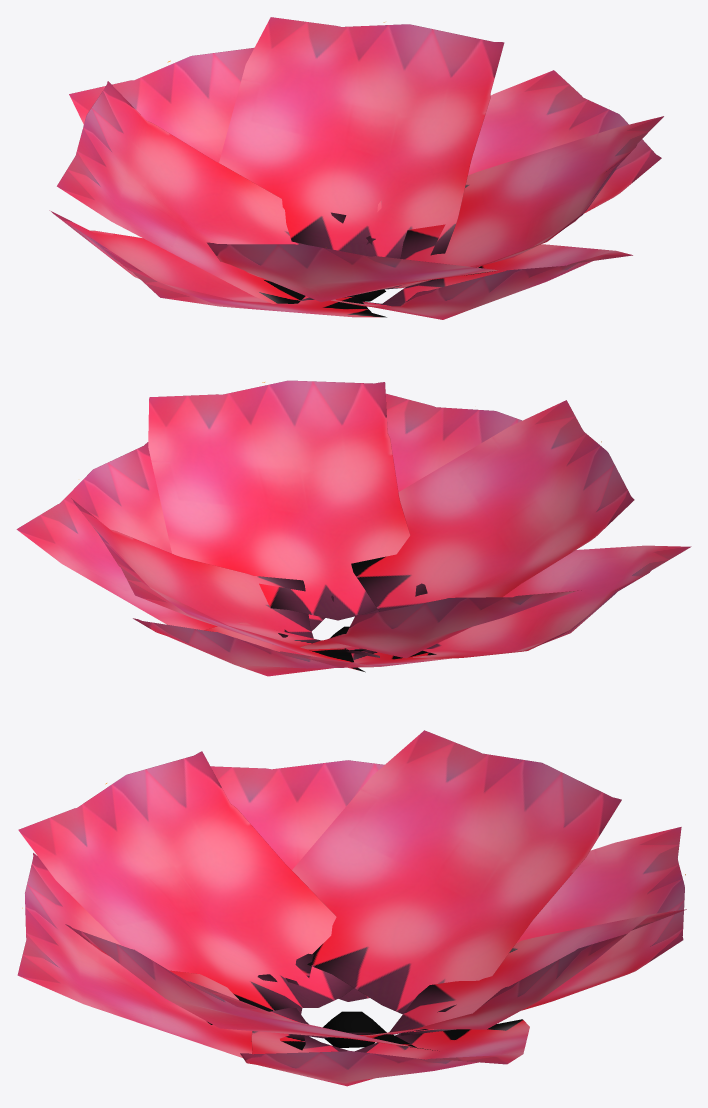
The model's file is OrangeFlower_LOD.fbx.
The picture shows the model from 3 angles, top to bottom: view 1: azimuth 30°, elevation 25°; view 2: azimuth 150°, elevation 25°; view 3: azimuth 270°, elevation 25°; orthographic projection. The views are drawn at different scales.
Parts seen in each view (by area): view 1: OrangeFlower_LOD0; view 2: OrangeFlower_LOD0; view 3: OrangeFlower_LOD0, OrangeFlower_Static_LOD0.
Boxes of the visible parts, x1,y1,x2,y2 form: OrangeFlower_LOD0: [49, 17, 663, 319]; OrangeFlower_LOD0: [16, 380, 691, 676]; OrangeFlower_LOD0: [17, 730, 686, 1086]; OrangeFlower_Static_LOD0: [323, 1011, 386, 1047].
Size of what is drawn, in the model's own units: 389 by 114 by 382.
